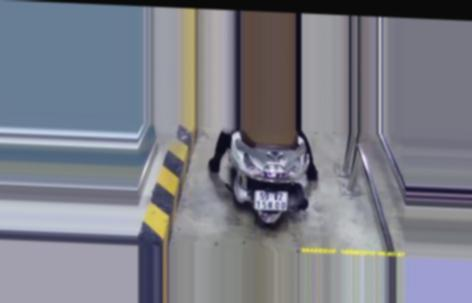License_Plate: (250, 187, 292, 216)
